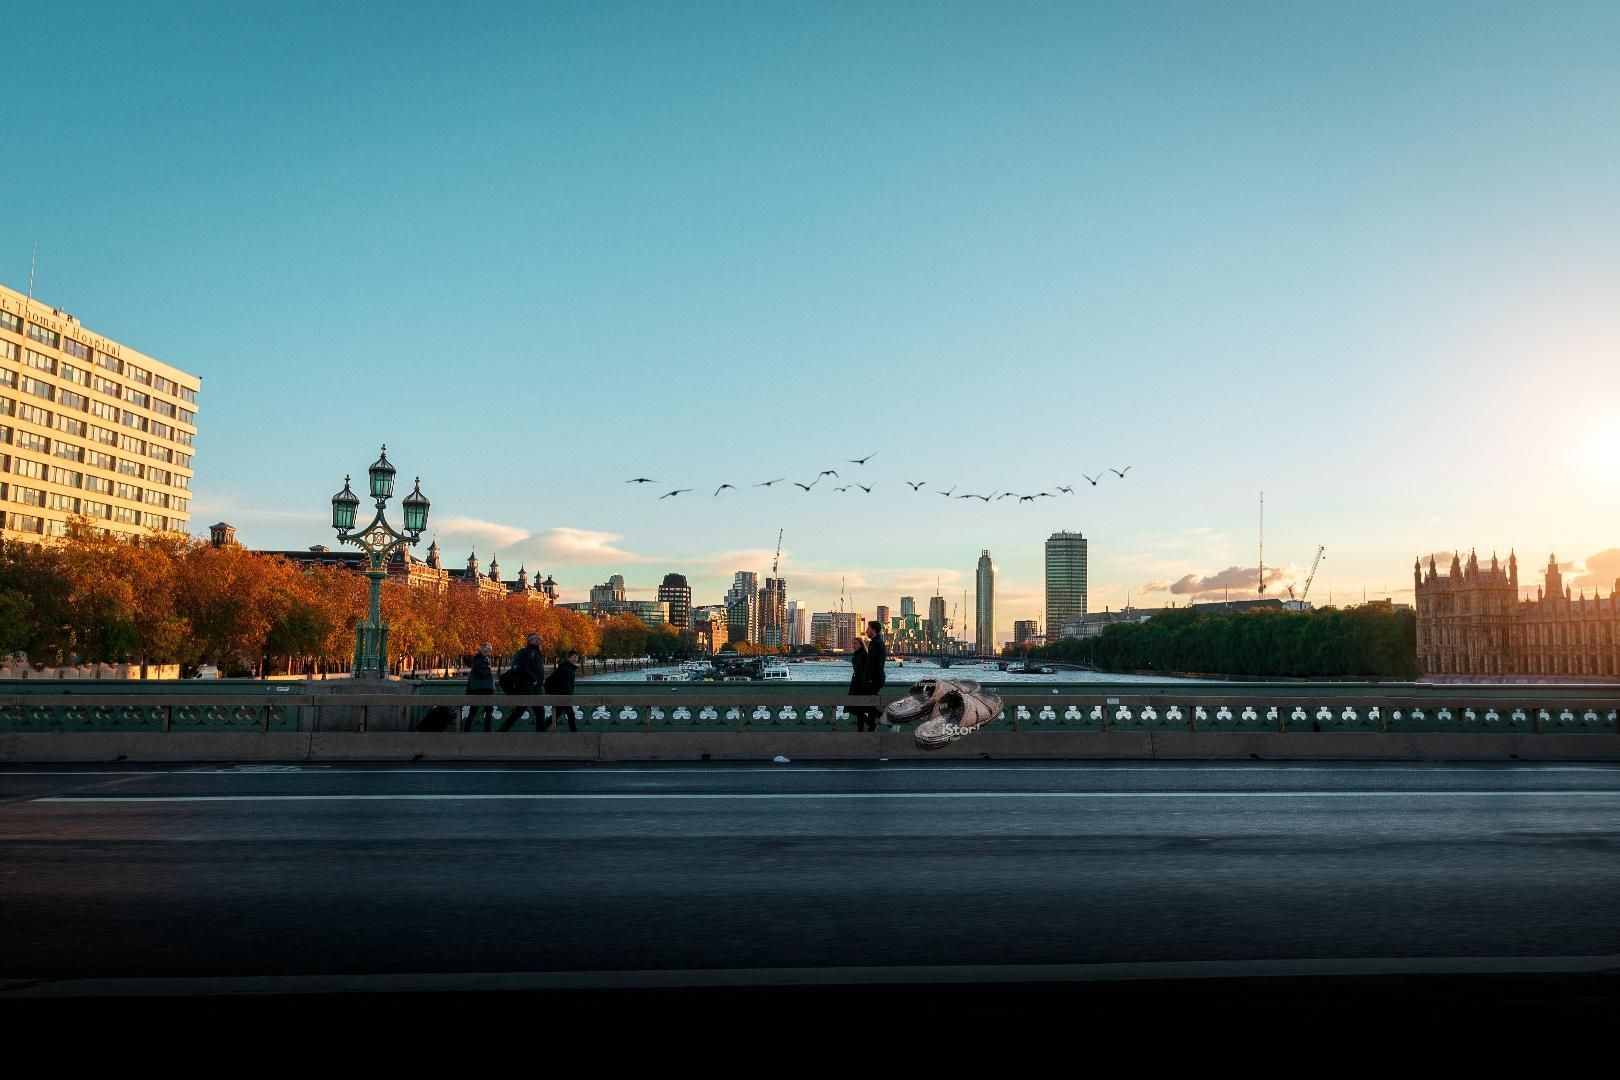shoes: (875, 674, 1008, 755)
